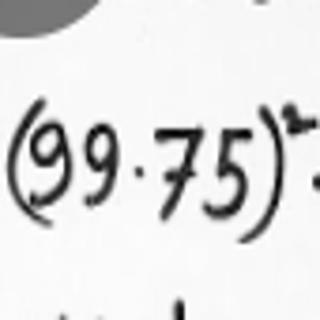.: (130, 161, 149, 180)
5: (212, 126, 249, 219)
7: (153, 121, 198, 215)
9: (23, 124, 75, 206), (81, 121, 119, 208)
